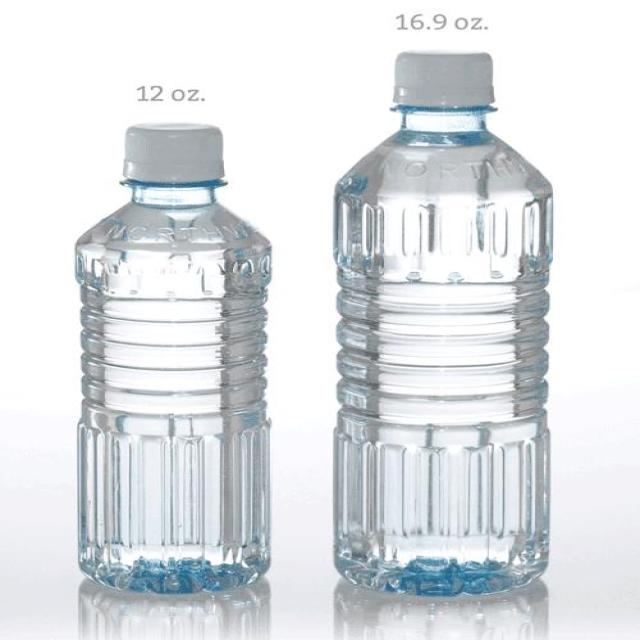bottle: (327, 39, 570, 604), (62, 109, 286, 602)
